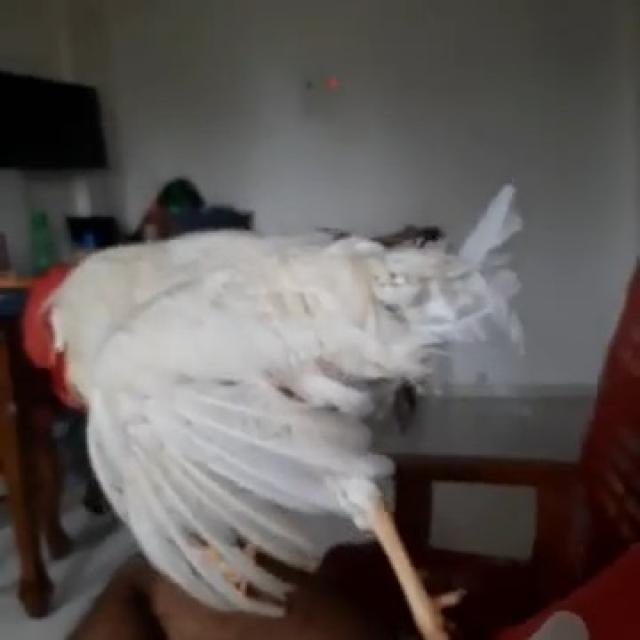wing and leg stretching: (3, 188, 554, 640)
